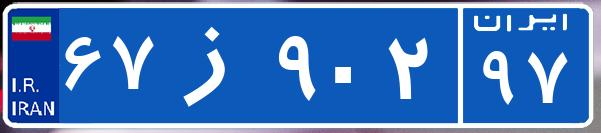0: (330, 28, 385, 110)
2: (385, 28, 445, 110)
6: (57, 26, 110, 107)
7: (110, 28, 158, 105), (525, 38, 570, 115)
9: (273, 28, 330, 110), (475, 38, 525, 113)
ز: (158, 15, 273, 115)
